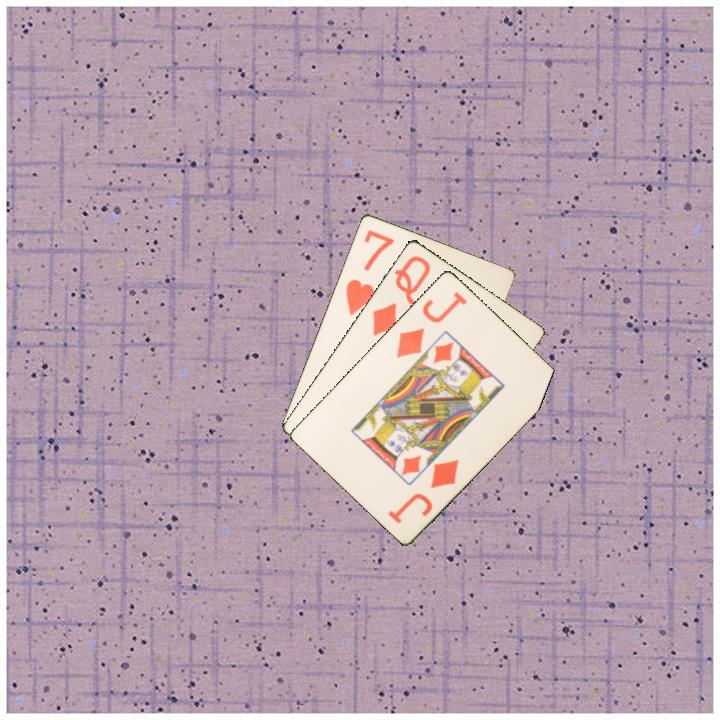7h: (342, 226, 397, 319)
Jd: (392, 287, 470, 361), (384, 455, 462, 527)
Qd: (368, 251, 434, 339)
